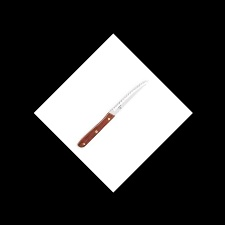k1: (104, 78, 153, 120)
